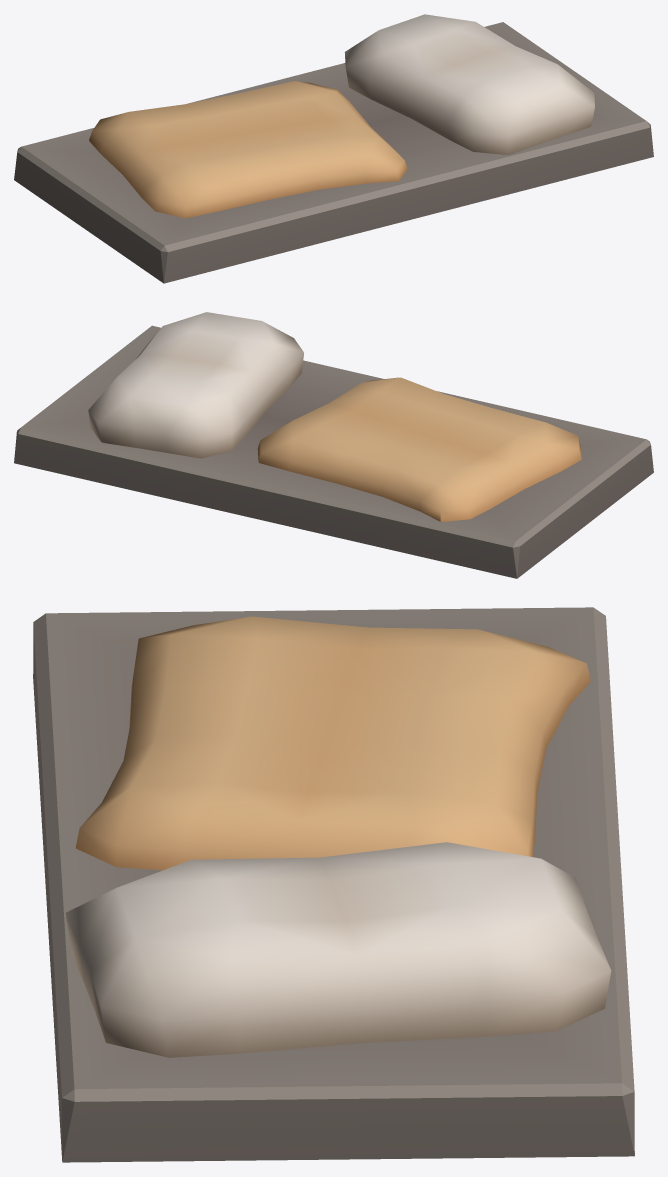
File: 普通床使用前.fbx
3 views of the same model, one above another, from view 1: azimuth 30°, elevation 25°; view 2: azimuth 150°, elevation 25°; view 3: azimuth 270°, elevation 25° (orthographic). The views are drawn at different scales.
Parts seen in each view (by area): view 1: bed1A; view 2: bed1A; view 3: bed1A.
Boxes of the visible parts, x1,y1,x2,y2 form: bed1A: (14, 14, 653, 283); bed1A: (14, 312, 653, 578); bed1A: (33, 607, 634, 1162).
Size of the model in its own units: 304 by 45.71 by 158.
Materials: 1 (1 with a texture image).
